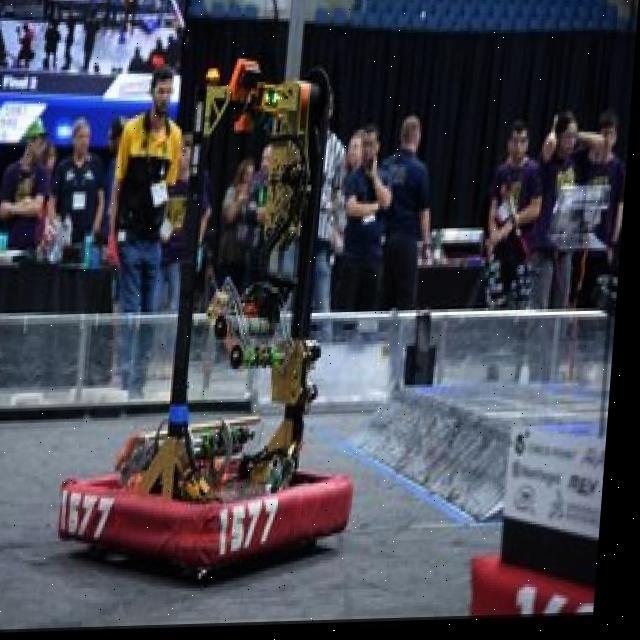robot: (61, 55, 393, 581), (472, 419, 615, 628)
